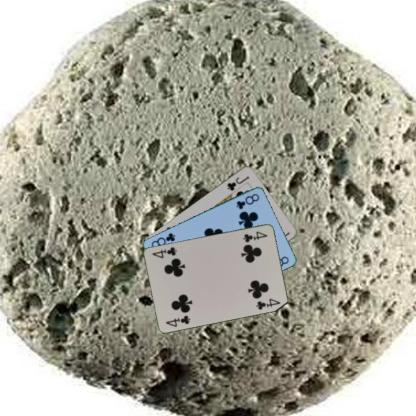4c: (163, 312, 192, 328), (240, 229, 269, 244)
8c: (233, 191, 260, 210)
Jc: (224, 173, 250, 192)
